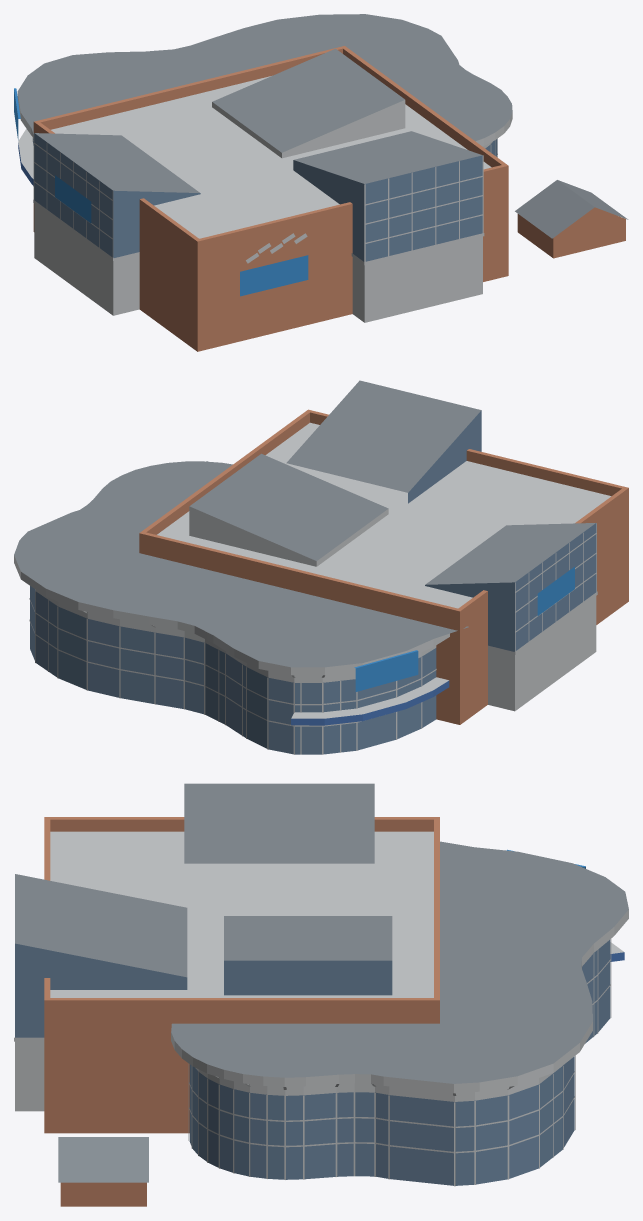
The model's file is den-downtown-aquarium.glb.
The picture shows the model from 3 angles, top to bottom: view 1: azimuth 30°, elevation 25°; view 2: azimuth 150°, elevation 25°; view 3: azimuth 270°, elevation 25°; orthographic projection. The views are drawn at different scales.
Visible parts, largest first — view 1: Downtown Aquarium; view 2: Downtown Aquarium; view 3: Downtown Aquarium.
Part boxes in pixels (x1,y1,x2,y2): Downtown Aquarium: (14, 14, 628, 351); Downtown Aquarium: (14, 380, 628, 754); Downtown Aquarium: (14, 783, 628, 1206).
Size of the model in its own units: 88.35 by 25.25 by 83.95.
